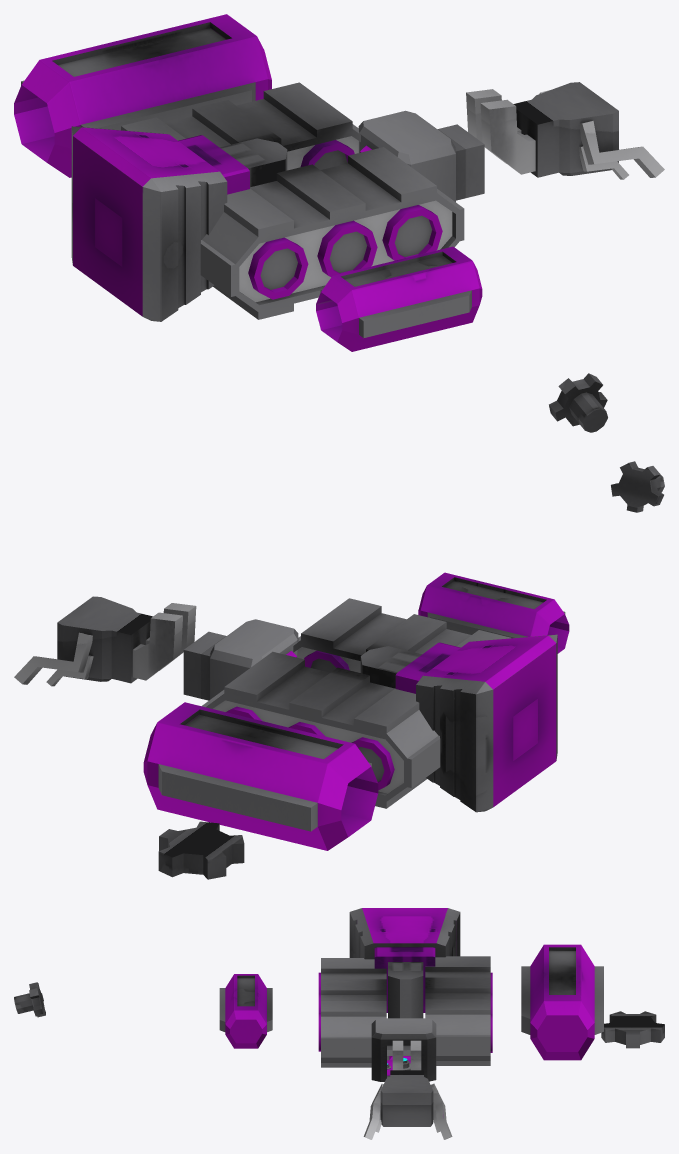
File: Enemy2_Die39.obj
3 views of the same model, one above another, from view 1: azimuth 30°, elevation 25°; view 2: azimuth 150°, elevation 25°; view 3: azimuth 270°, elevation 25° (orthographic). The views are drawn at different scales.
Parts seen in each view (by area): view 1: Object006, Object013, Object011, Object014, Object010, Object012, Object008; view 2: Object011, Object006, Object013, Object010, Object014, Object012, Object009, Object008; view 3: Object006, Object011, Object013, Object010, Object014, Object012, Object009, Object008.
Part boxes in pixels (left/top/right/bottom): Object006: left=121, top=82, right=464, bottom=319; Object013: left=71, top=126, right=287, bottom=321; Object011: left=14, top=14, right=271, bottom=177; Object014: left=316, top=246, right=482, bottom=351; Object010: left=466, top=82, right=664, bottom=179; Object012: left=358, top=110, right=484, bottom=201; Object008: left=549, top=373, right=607, bottom=432; Object011: left=143, top=702, right=378, bottom=850; Object006: left=201, top=598, right=510, bottom=808; Object013: left=360, top=634, right=557, bottom=812; Object010: left=14, top=596, right=196, bottom=686; Object014: left=418, top=572, right=569, bottom=653; Object012: left=183, top=619, right=298, bottom=700; Object009: left=158, top=821, right=244, bottom=879; Object008: left=611, top=461, right=664, bottom=512; Object006: left=318, top=956, right=492, bottom=1067; Object011: left=521, top=944, right=603, bottom=1060; Object013: left=349, top=908, right=460, bottom=1018; Object010: left=363, top=1040, right=452, bottom=1139; Object014: left=219, top=974, right=272, bottom=1048; Object012: left=371, top=1018, right=436, bottom=1081; Object009: left=601, top=1011, right=664, bottom=1048; Object008: left=14, top=982, right=45, bottom=1017.
Size of the model in its own units: 196 by 50.77 by 340.
